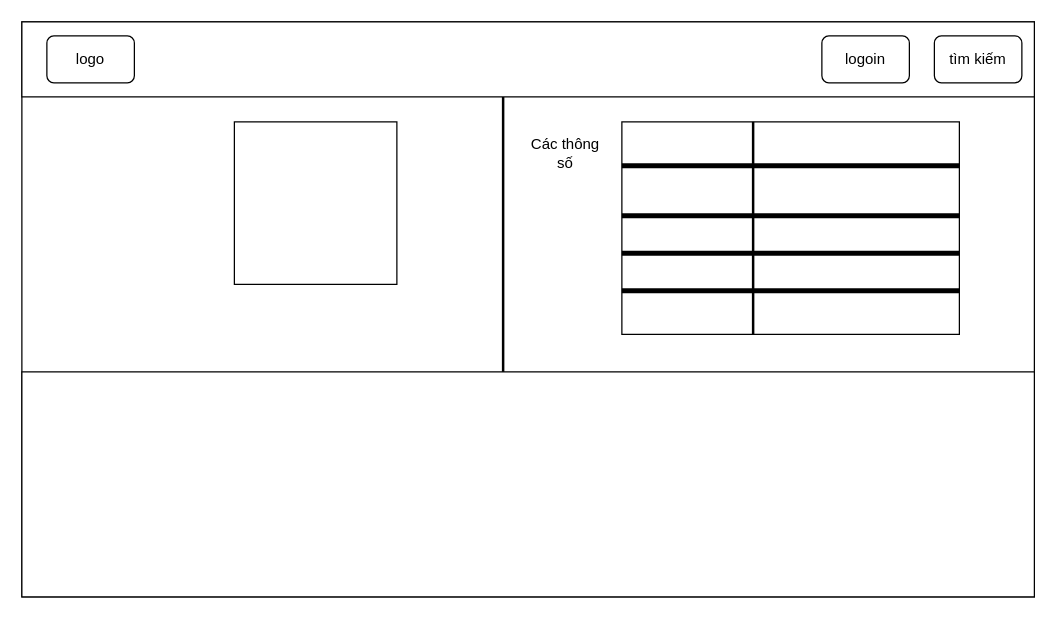
The diagram is 1056 pixels wide and 619 high, and some of its shapes have lost their labels. Each missing label, with the centre of its shape:
"Nội dụng sản phẩm" belongs at pixel 527 484.
"Ảnh sản phẩm" belongs at pixel 315 202.
